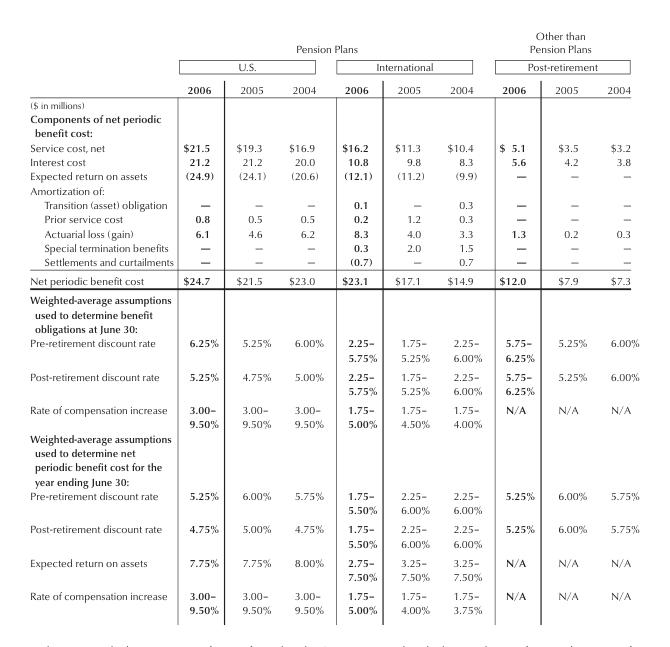table: (29, 29, 638, 616)
table column: (29, 29, 177, 616), (489, 29, 543, 616), (226, 29, 279, 616), (279, 29, 332, 616), (332, 29, 385, 616), (543, 29, 596, 616), (385, 29, 437, 616), (437, 29, 489, 616), (177, 29, 226, 616), (596, 29, 638, 616)
table column header: (29, 29, 638, 111)
table projected row header: (29, 430, 638, 488), (29, 290, 638, 335), (29, 111, 638, 140), (29, 183, 638, 197)
table row: (29, 430, 638, 488), (29, 290, 638, 335), (29, 77, 638, 111), (29, 366, 638, 399), (29, 519, 638, 552), (29, 552, 638, 585), (29, 335, 638, 366), (29, 399, 638, 430), (29, 488, 638, 519), (29, 585, 638, 616), (29, 111, 638, 140), (29, 29, 638, 57), (29, 57, 638, 77), (29, 270, 638, 290), (29, 254, 638, 270), (29, 168, 638, 183), (29, 225, 638, 240), (29, 140, 638, 154), (29, 154, 638, 168), (29, 183, 638, 197), (29, 197, 638, 211), (29, 211, 638, 225), (29, 240, 638, 254)
table spanning cell: (29, 29, 177, 111), (177, 29, 489, 57), (489, 29, 638, 77), (332, 57, 489, 77), (177, 57, 332, 77)
